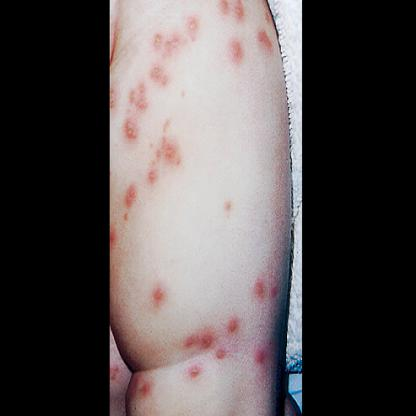Fire ant: (181, 314, 242, 378), (146, 116, 182, 182), (148, 13, 199, 54), (254, 0, 274, 55), (119, 182, 141, 223), (252, 274, 280, 302), (215, 0, 247, 24), (128, 373, 154, 401), (126, 80, 148, 110), (122, 116, 140, 146), (150, 61, 172, 84), (148, 279, 164, 307), (226, 38, 242, 64), (108, 360, 122, 386), (108, 79, 117, 118), (250, 343, 266, 364), (222, 194, 235, 217), (108, 222, 116, 255), (178, 86, 187, 98)
